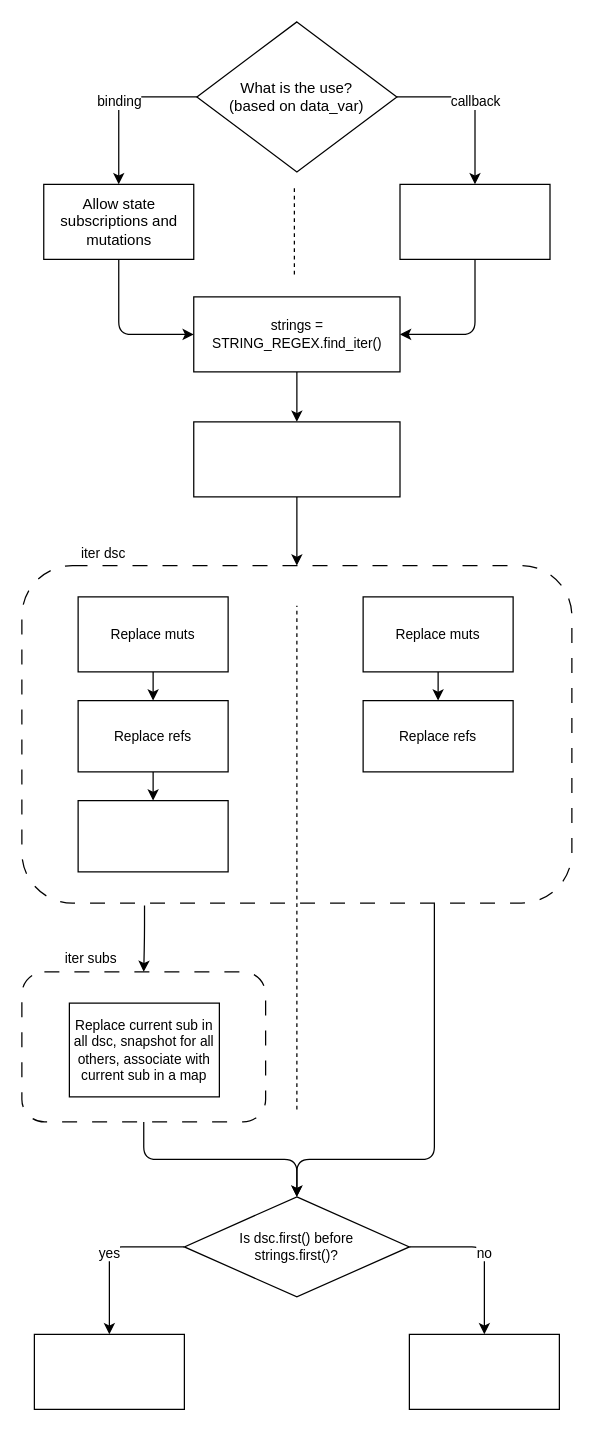
Image size: 594x1431. Some labels were removed from this diagram. The shapes that lost their labels are listed below. From the top down, each one's box as (x1, y1, x2, y2) in pixels, then its label:
(399, 183, 550, 259): Allow state mutations only
(192, 421, 400, 497): dsc = STRING_REGEX.split()
(77, 799, 228, 872): Remember subs (deduped)
(33, 1333, 184, 1409): return dsc.interleave(strings)
(408, 1333, 559, 1409): return strings.interleave(dsc)
